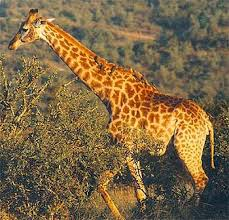Jirafa: (7, 10, 181, 156)
